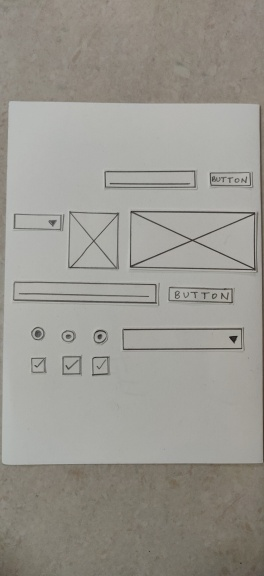button: (165, 283, 237, 306), (206, 169, 253, 189)
checkbox: (59, 353, 84, 378), (90, 353, 112, 378), (27, 354, 49, 375)
dropdown: (119, 324, 248, 353), (10, 211, 65, 232)
img: (127, 207, 259, 274), (66, 209, 121, 272)
radio: (89, 328, 110, 346), (28, 323, 47, 342), (59, 327, 76, 344)
text: (10, 278, 160, 310), (101, 166, 198, 191)
